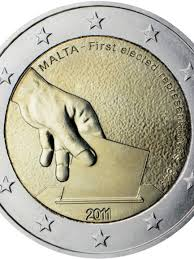eur002: (1, 1, 194, 257)
